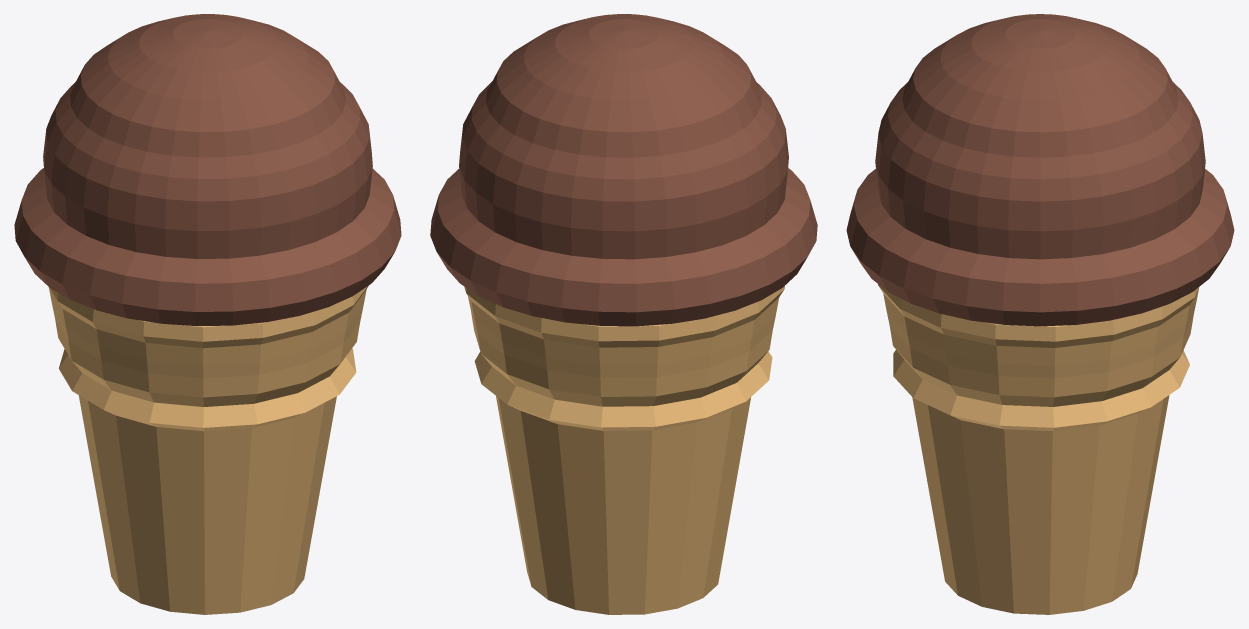
Rendered from IceCream.fbx.
3 renders of one model, left to right at view 1: azimuth 30°, elevation 25°; view 2: azimuth 150°, elevation 25°; view 3: azimuth 270°, elevation 25°, orthographic.
Visible parts, largest first — view 1: Sphere, Cylinder; view 2: Sphere, Cylinder; view 3: Sphere, Cylinder.
Boxes of the visible parts, x1=… form: Sphere: x1=14, y1=14, x2=401, y2=325; Cylinder: x1=48, y1=285, x2=368, y2=614; Sphere: x1=430, y1=14, x2=817, y2=326; Cylinder: x1=464, y1=286, x2=784, y2=614; Sphere: x1=846, y1=14, x2=1234, y2=326; Cylinder: x1=878, y1=284, x2=1199, y2=614.
Bounding box in the file's own units: 294 × 454 × 294.
